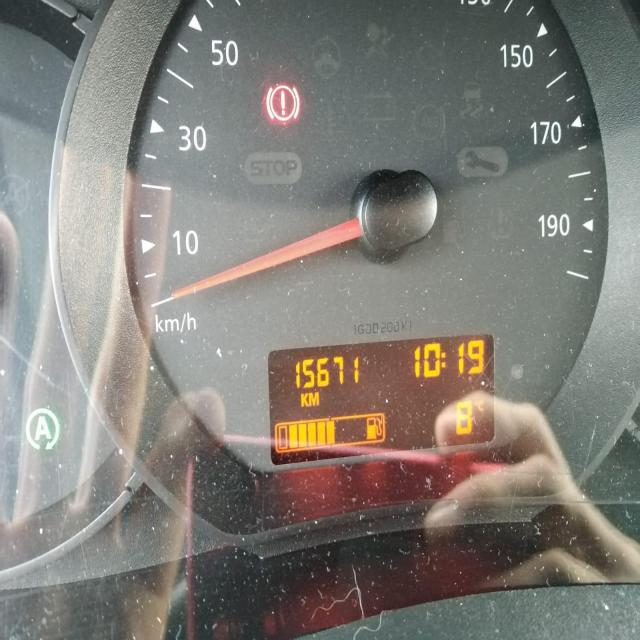odometer: (266, 332, 496, 466)
